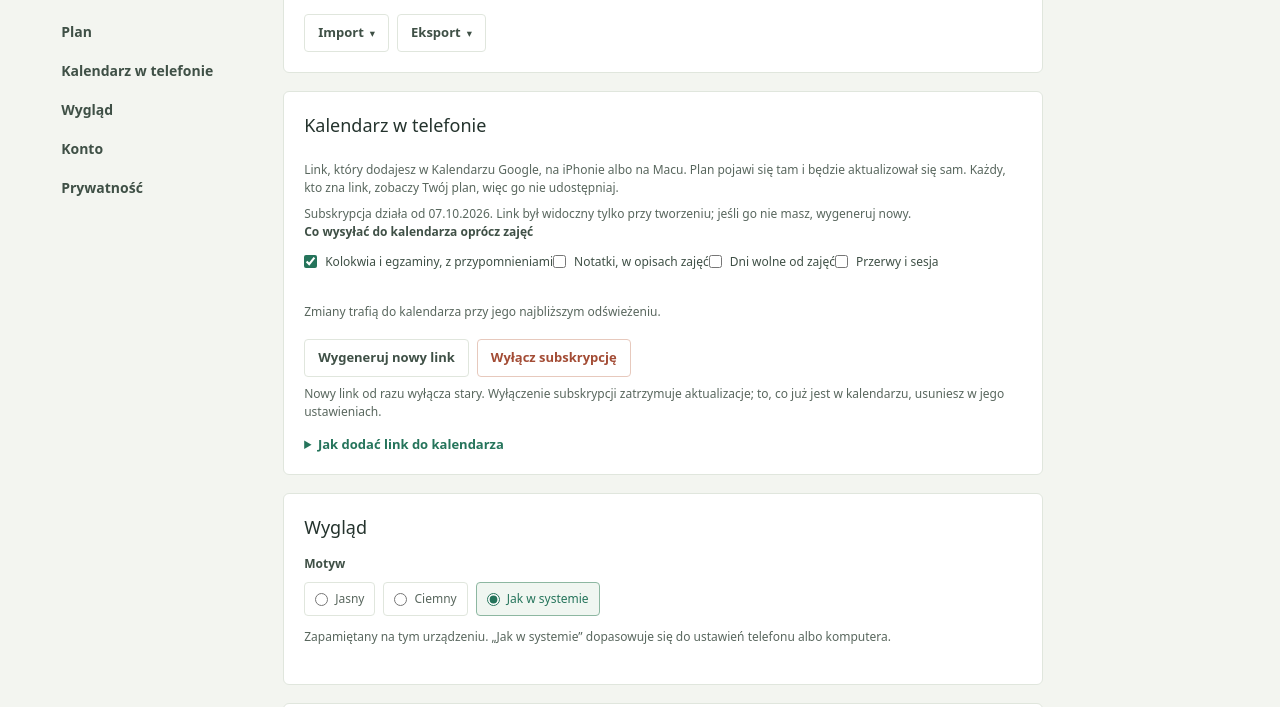
calendar subscription › turns the subscription off
(page scrolled)
Click the button "Wyłącz subskrypcję" at (554, 358), box [477, 338, 631, 376]
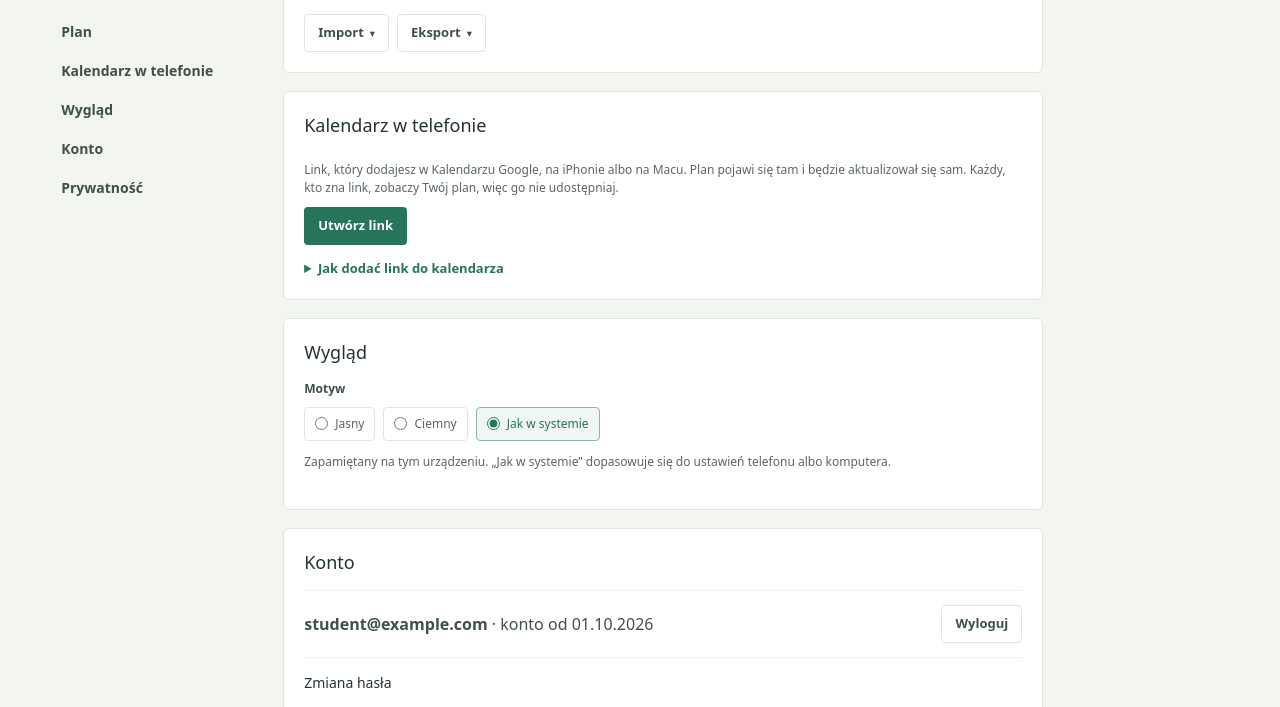
Expected: the button "Utwórz link" is shown, [304, 207, 407, 245]
